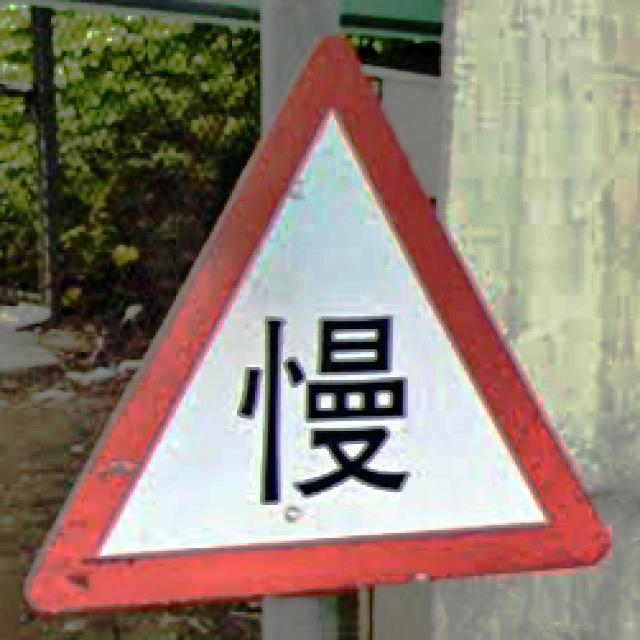slow: (25, 36, 615, 617)
